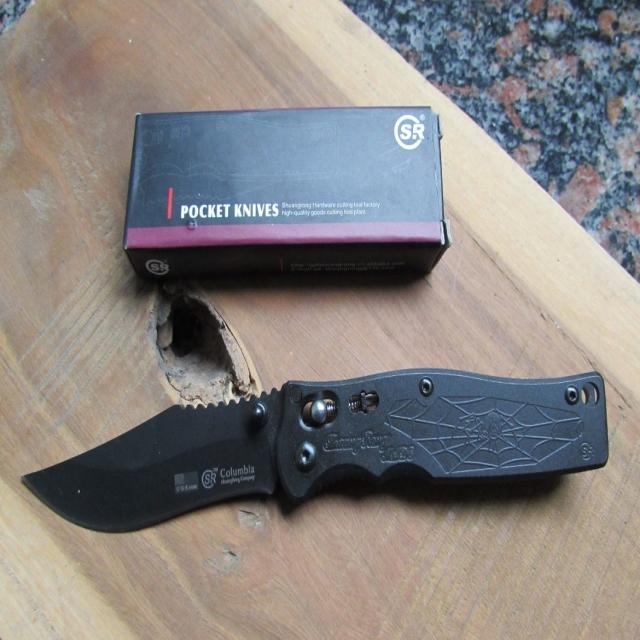knife: (17, 364, 616, 543)
